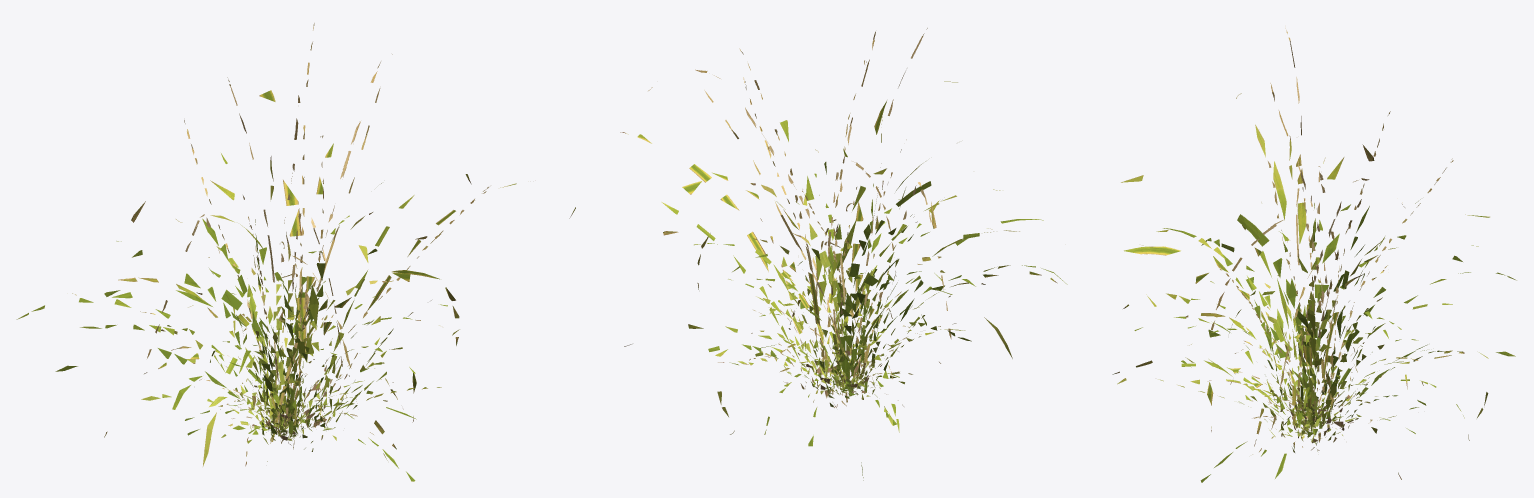
File: tufted_grass_tdcnfcdr.gltf
3 renders of one model, left to right at view 1: azimuth 30°, elevation 25°; view 2: azimuth 150°, elevation 25°; view 3: azimuth 270°, elevation 25°, orthographic. The views are drawn at different scales.
Visible parts, largest first — view 1: SM_tdcnfcdr_VarA, SM_tdcnfcdr_VarB, SM_tdcnfcdr_VarC, SM_tdcnfcdr_VarD; view 2: SM_tdcnfcdr_VarA, SM_tdcnfcdr_VarB, SM_tdcnfcdr_VarC, SM_tdcnfcdr_VarD; view 3: SM_tdcnfcdr_VarA, SM_tdcnfcdr_VarB, SM_tdcnfcdr_VarC, SM_tdcnfcdr_VarD.
Part boxes in pixels (x1,y1,x2,y2): SM_tdcnfcdr_VarA: (16, 23, 516, 481); SM_tdcnfcdr_VarB: (55, 120, 488, 460); SM_tdcnfcdr_VarC: (144, 156, 439, 461); SM_tdcnfcdr_VarD: (206, 77, 396, 441); SM_tdcnfcdr_VarA: (569, 31, 1067, 446); SM_tdcnfcdr_VarB: (708, 60, 985, 480); SM_tdcnfcdr_VarC: (624, 106, 1057, 407); SM_tdcnfcdr_VarD: (704, 28, 956, 394); SM_tdcnfcdr_VarA: (1121, 83, 1516, 482); SM_tdcnfcdr_VarB: (1117, 158, 1515, 447); SM_tdcnfcdr_VarC: (1112, 135, 1464, 479); SM_tdcnfcdr_VarD: (1230, 28, 1418, 454).
Size of what is drawn, in the model's own units: 1.21 by 1.03 by 0.9731.
1 material, 1 textured.
